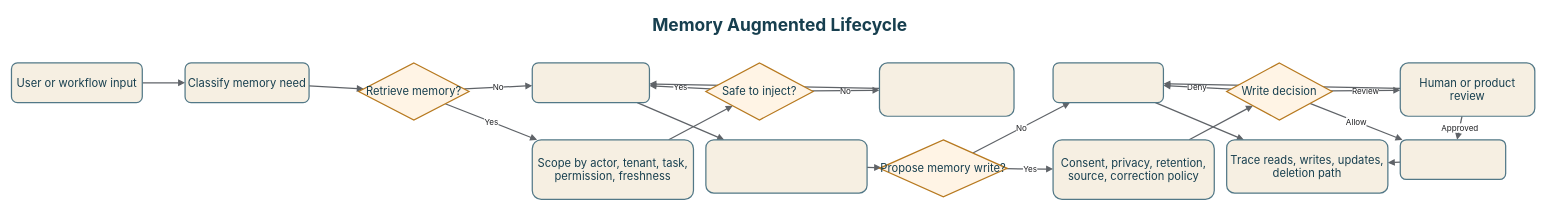
The diagram is 1546 pixels wide and 210 high, and some of its shapes have lost their labels. The centre of each missing label's shape, as x and y in pixels:
"Agent reasons with labeled memory" belongs at [786,166].
"Answer or action" belongs at [1108,82].
"Build task context" belongs at [590,82].
"Exclude, redact, or ask" belongs at [946,89].
"Memory store" belongs at [1452,159].
